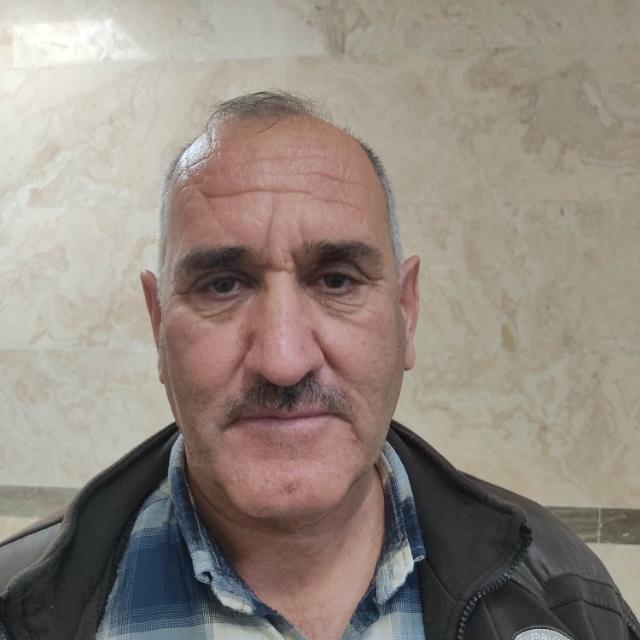crows_feet: (168, 280, 192, 304), (359, 271, 385, 293)
forehead: (195, 176, 249, 204), (317, 162, 363, 194), (254, 178, 308, 204), (318, 188, 364, 216)
frown_line: (258, 214, 280, 256)
